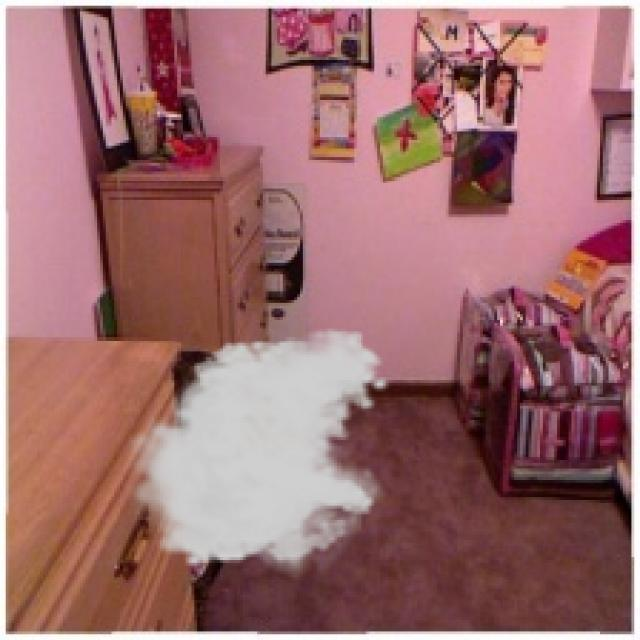Smoke: (120, 326, 392, 583)
